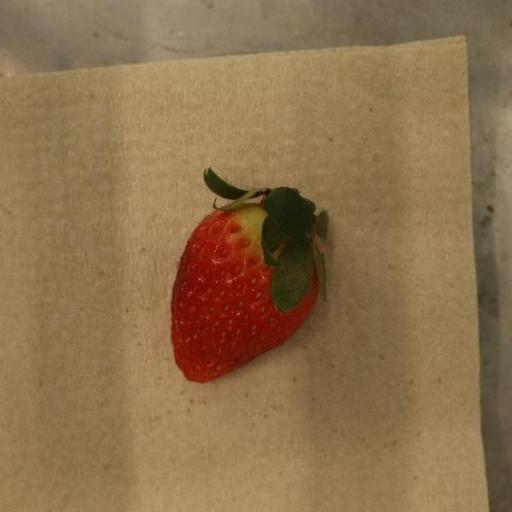Strawberry: (170, 168, 332, 384)
